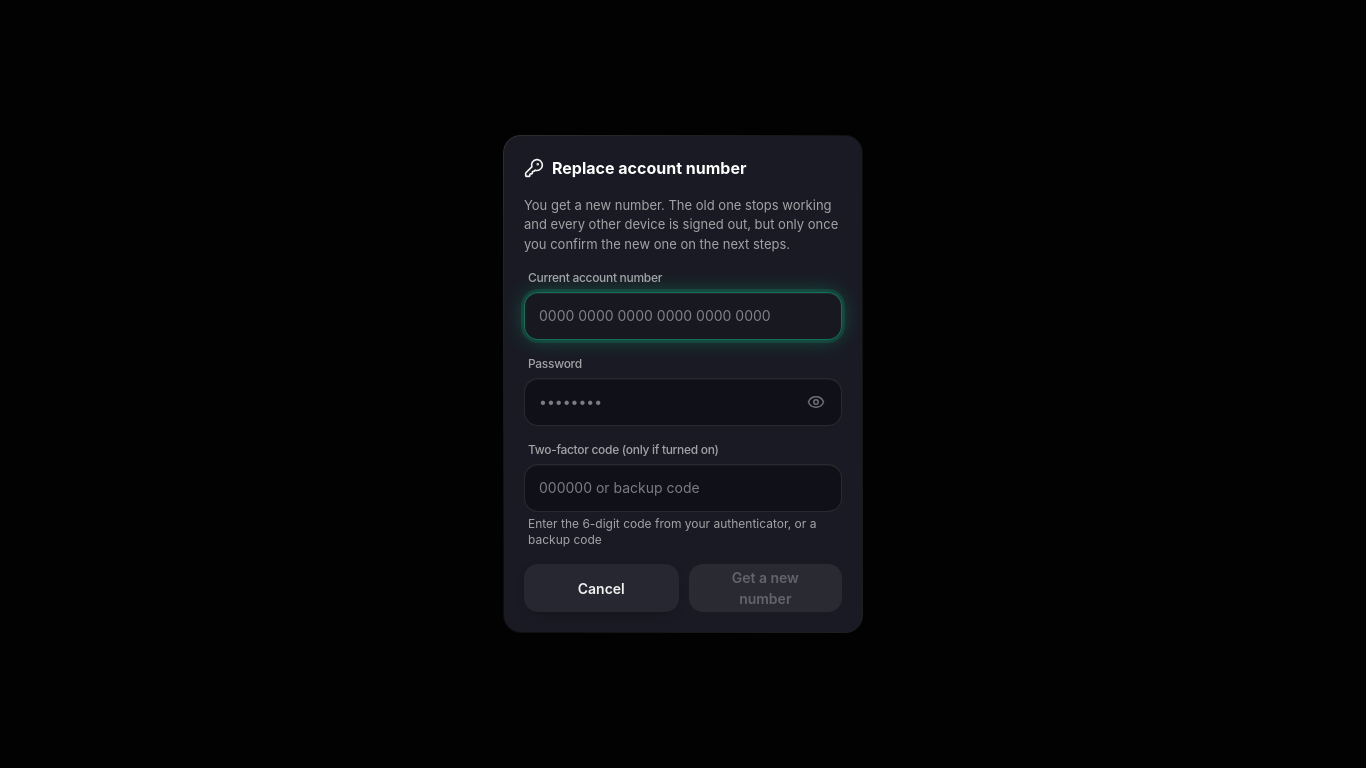
Test case: replacing the number › 401: says the proof did not check out, naming what was asked
Step 1. Type "111122223333444455556666" into the field labelled "Current account number" → (683,316), box x1=539 y1=306 x2=827 y2=326
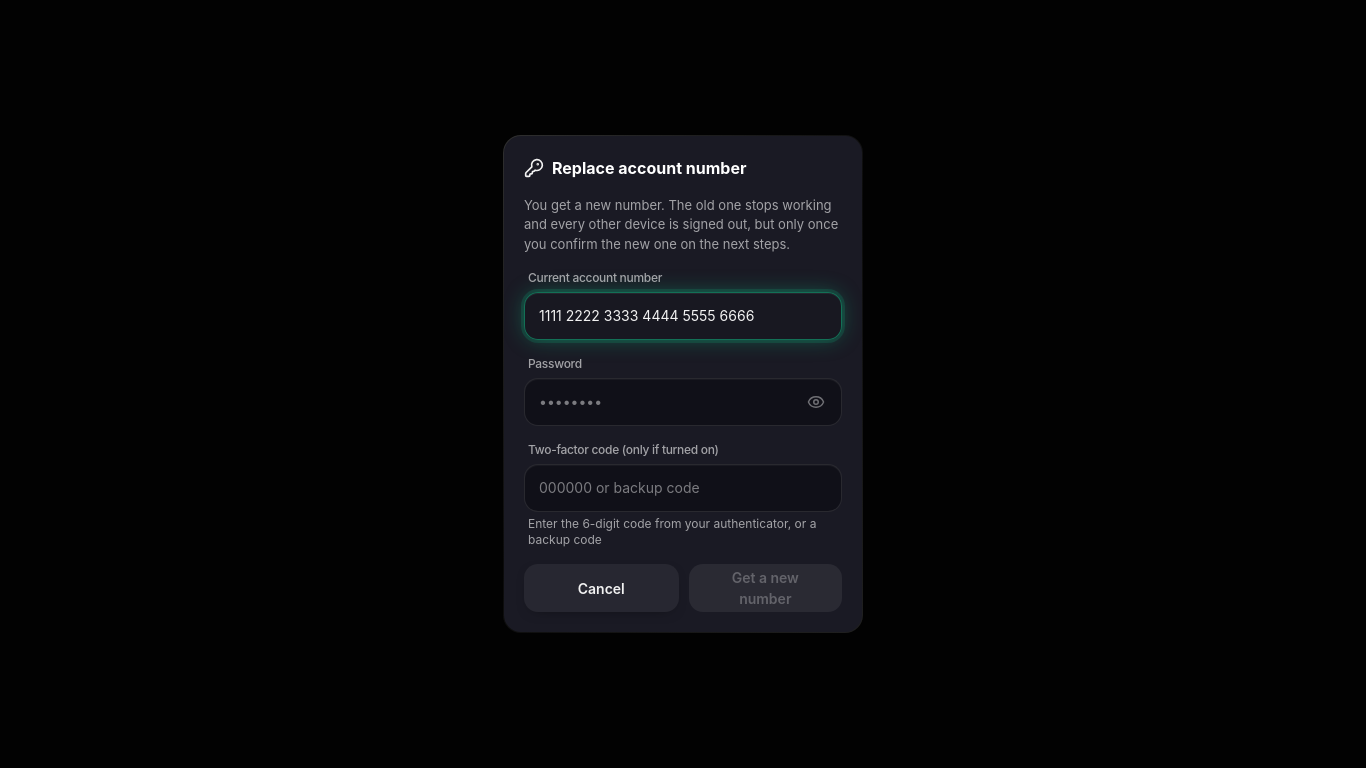
Step 2. Type "wrong" into the password field labelled "Password" → (667,402), box x1=539 y1=392 x2=795 y2=412
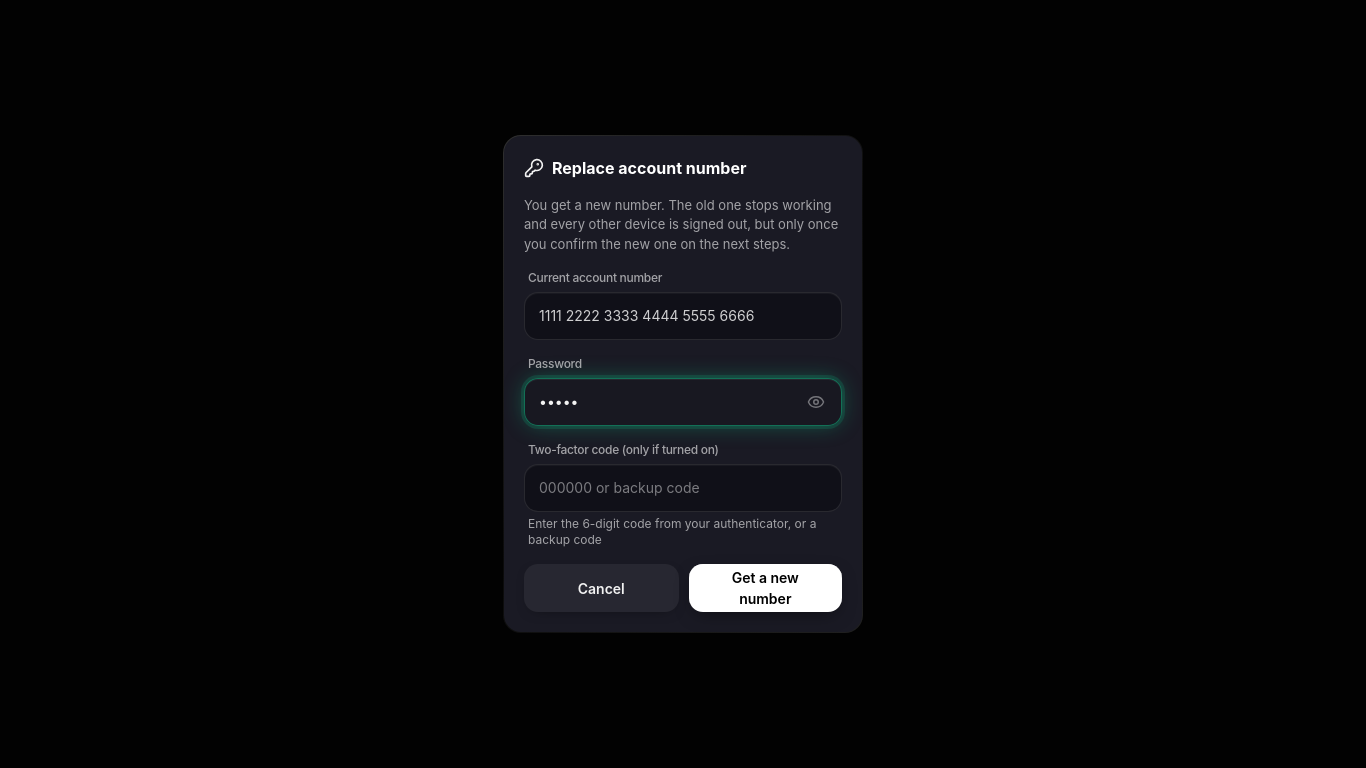
Step 3. Click the button "Get a new number" → (765,588), box x1=689 y1=564 x2=842 y2=612
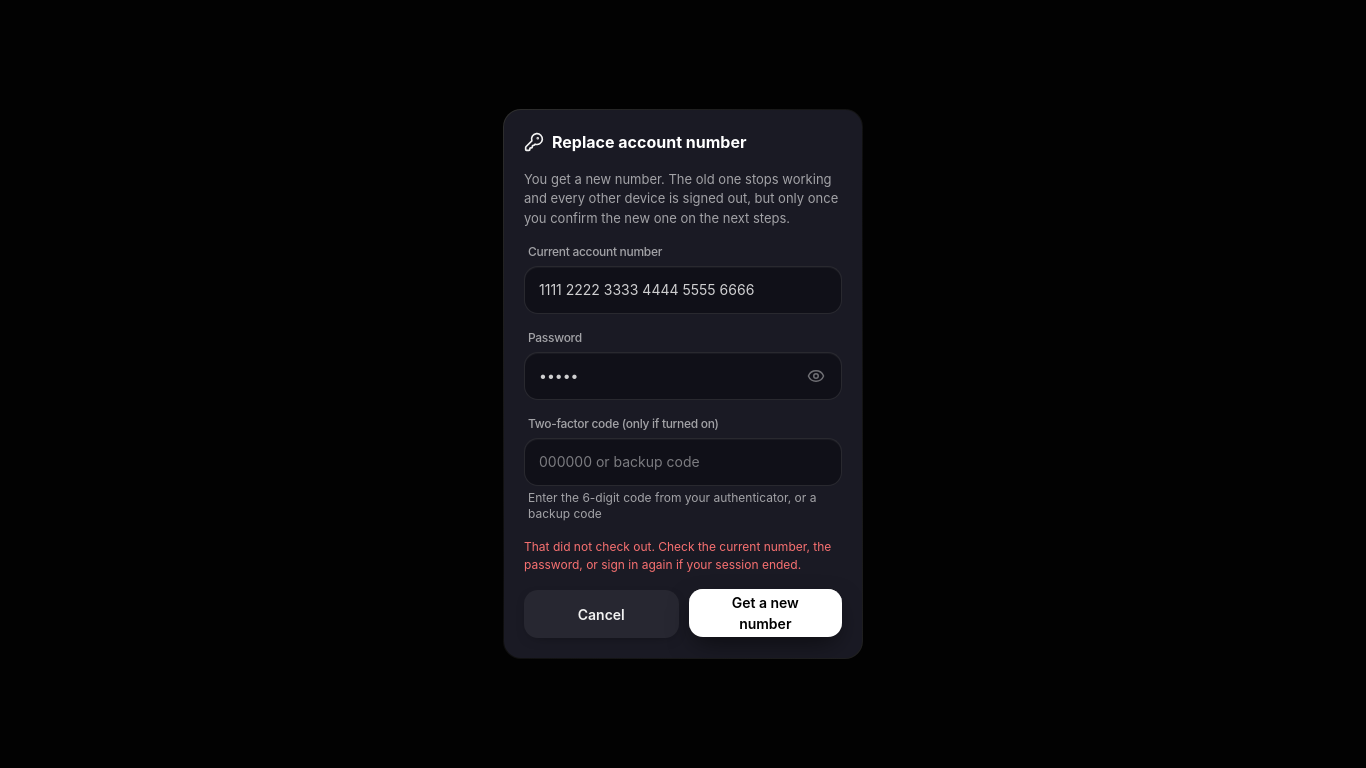
Now the message shows "That did not check out. Check the current number, the password, or sign in again if your session ended.", box x1=524 y1=539 x2=831 y2=572
